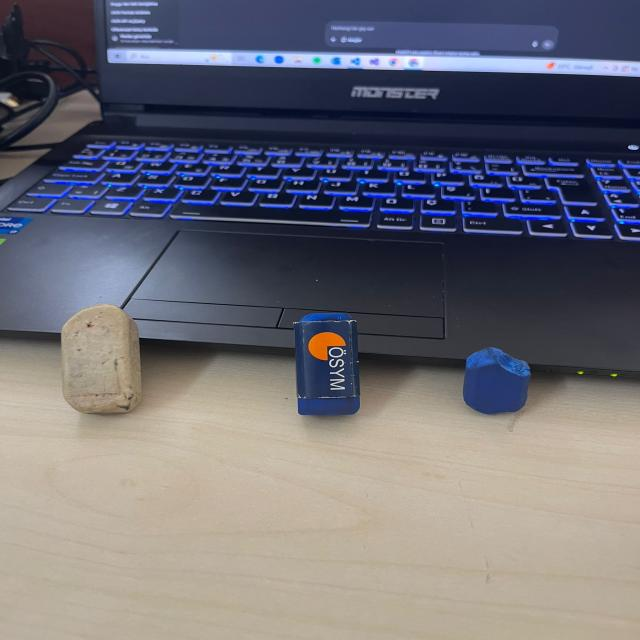eraser: (47, 297, 157, 431), (286, 302, 368, 422), (457, 342, 534, 422)
